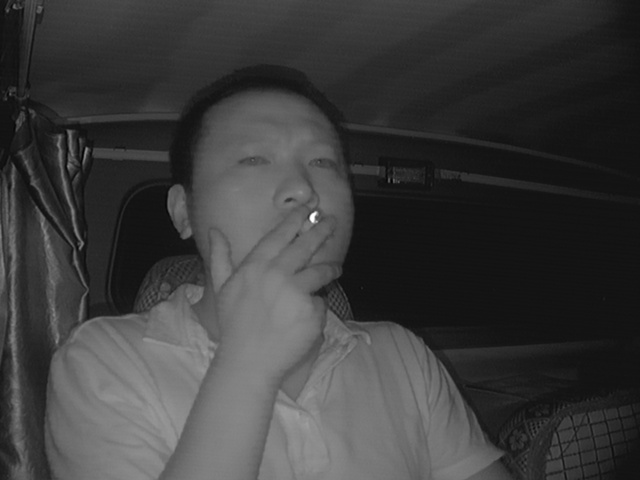hand: (255, 207, 343, 327)
